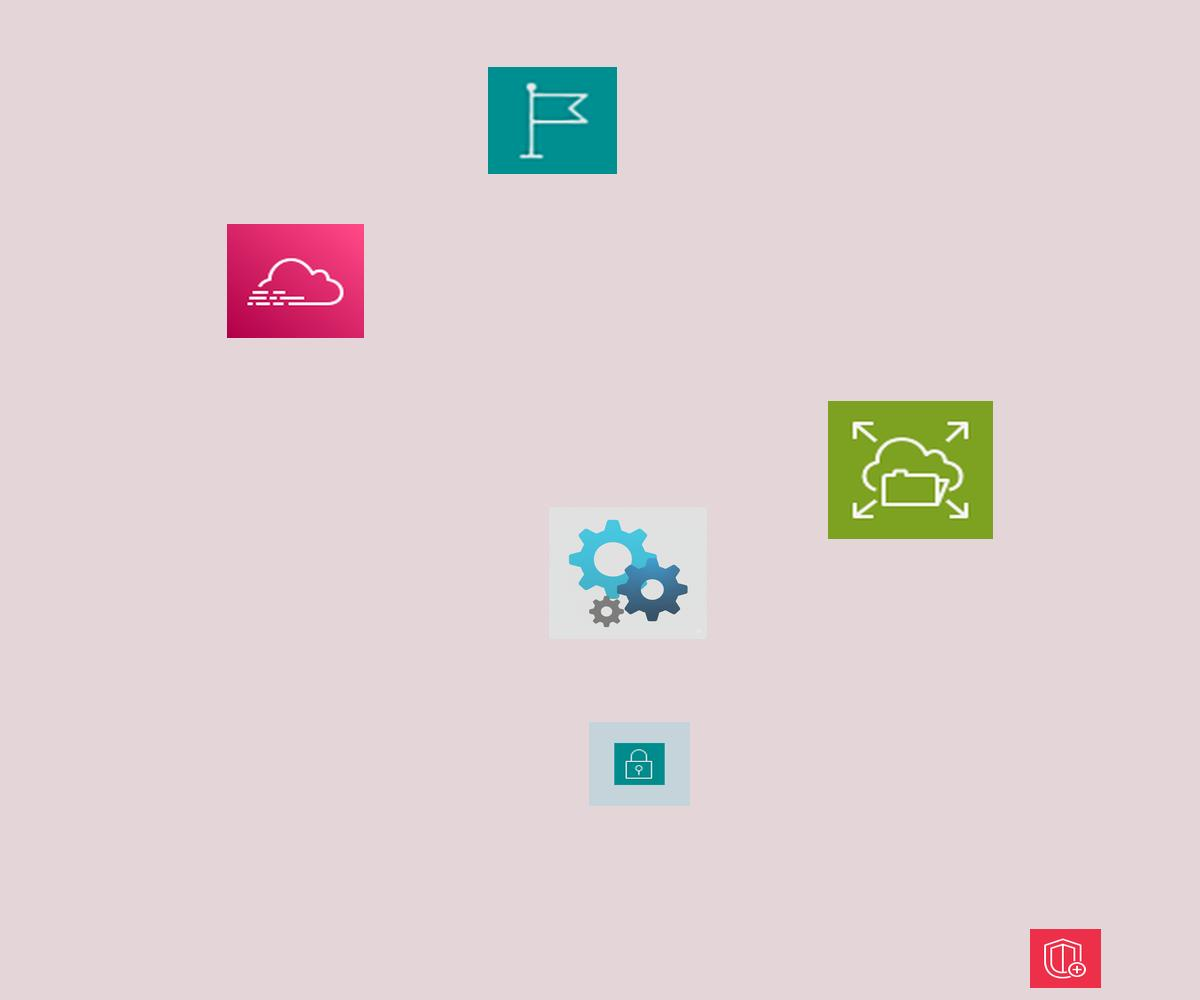AWS-CloudTrail: (227, 224, 364, 338)
AWS-EFS: (828, 401, 993, 539)
AWS-Private-subnet: (589, 722, 690, 806)
AWS-Region: (488, 67, 617, 174)
AWS-Shield: (1030, 929, 1101, 988)
Azure_api: (549, 507, 707, 639)
